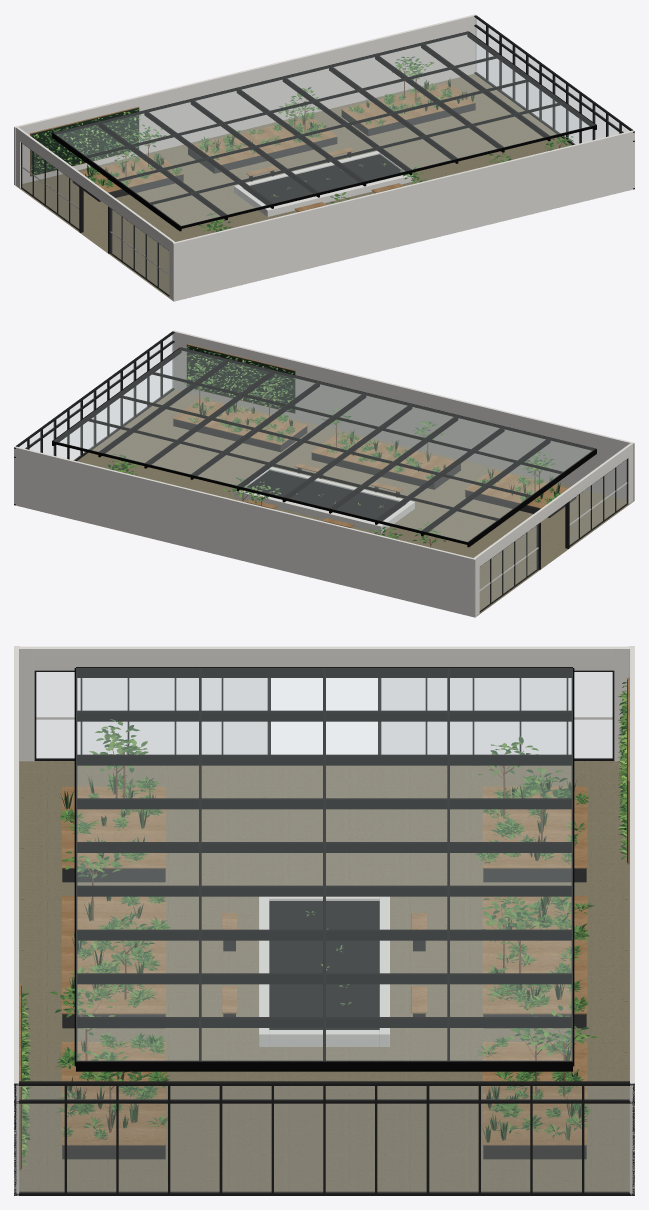
File: garden.glb
3 renders of one model, top to bottom at view 1: azimuth 30°, elevation 25°; view 2: azimuth 150°, elevation 25°; view 3: azimuth 270°, elevation 25°, orthographic. The views are drawn at different scales.
Parts seen in each view (by area): view 1: garden-roofglass-glass, garden-baked-paint-wall, garden-baked-floor, garden-ceiling-metal-dark, garden-glass-glass, garden-baked-wood, garden-baked-foliage, garden-baked-paint, garden-baked-metal-dark, garden-baked-black-glass, garden-baked-quartz; view 2: garden-roofglass-glass, garden-baked-paint-wall, garden-baked-floor, garden-ceiling-metal-dark, garden-glass-glass, garden-baked-wood, garden-baked-foliage, garden-baked-paint, garden-baked-metal-dark, garden-baked-black-glass, garden-baked-quartz; view 3: garden-roofglass-glass, garden-baked-floor, garden-glass-glass, garden-ceiling-metal-dark, garden-baked-wood, garden-baked-foliage, garden-baked-paint-wall, garden-baked-metal-dark, garden-baked-black-glass, garden-baked-paint, garden-baked-quartz, garden-baked-wood-dark.
Boxes of the visible parts, left/top/right/bottom form: garden-roofglass-glass: left=54, top=32, right=594, bottom=225; garden-baked-paint-wall: left=14, top=14, right=634, bottom=301; garden-baked-floor: left=15, top=73, right=571, bottom=300; garden-ceiling-metal-dark: left=52, top=31, right=596, bottom=231; garden-glass-glass: left=22, top=18, right=628, bottom=294; garden-baked-wood: left=30, top=83, right=476, bottom=211; garden-baked-foliage: left=31, top=56, right=573, bottom=231; garden-baked-paint: left=31, top=103, right=475, bottom=201; garden-baked-metal-dark: left=21, top=15, right=634, bottom=296; garden-baked-black-glass: left=243, top=154, right=401, bottom=205; garden-baked-quartz: left=234, top=151, right=414, bottom=217; garden-roofglass-glass: left=54, top=348, right=594, bottom=541; garden-baked-paint-wall: left=14, top=330, right=634, bottom=617; garden-baked-floor: left=77, top=389, right=633, bottom=616; garden-ceiling-metal-dark: left=52, top=347, right=596, bottom=547; garden-glass-glass: left=20, top=334, right=626, bottom=610; garden-baked-wood: left=172, top=344, right=567, bottom=527; garden-baked-foliage: left=108, top=346, right=560, bottom=543; garden-baked-paint: left=173, top=345, right=576, bottom=517; garden-baked-metal-dark: left=14, top=331, right=627, bottom=612; garden-baked-black-glass: left=247, top=470, right=405, bottom=521; garden-baked-quartz: left=234, top=467, right=414, bottom=533; garden-roofglass-glass: left=76, top=668, right=572, bottom=1061; garden-baked-floor: left=19, top=761, right=629, bottom=1191; garden-glass-glass: left=19, top=672, right=629, bottom=1192; garden-ceiling-metal-dark: left=74, top=667, right=574, bottom=1071; garden-baked-wood: left=19, top=677, right=629, bottom=1170; garden-baked-foliage: left=22, top=682, right=626, bottom=1165; garden-baked-paint-wall: left=14, top=646, right=634, bottom=1195; garden-baked-metal-dark: left=14, top=670, right=634, bottom=1195; garden-baked-black-glass: left=269, top=901, right=379, bottom=1029; garden-baked-paint: left=21, top=679, right=627, bottom=1168; garden-baked-quartz: left=259, top=896, right=389, bottom=1046; garden-baked-wood-dark: left=67, top=741, right=578, bottom=1132.
Size of what is drawn, in the model's own units: 30 by 3.61 by 18.
13 materials, 3 textured.
